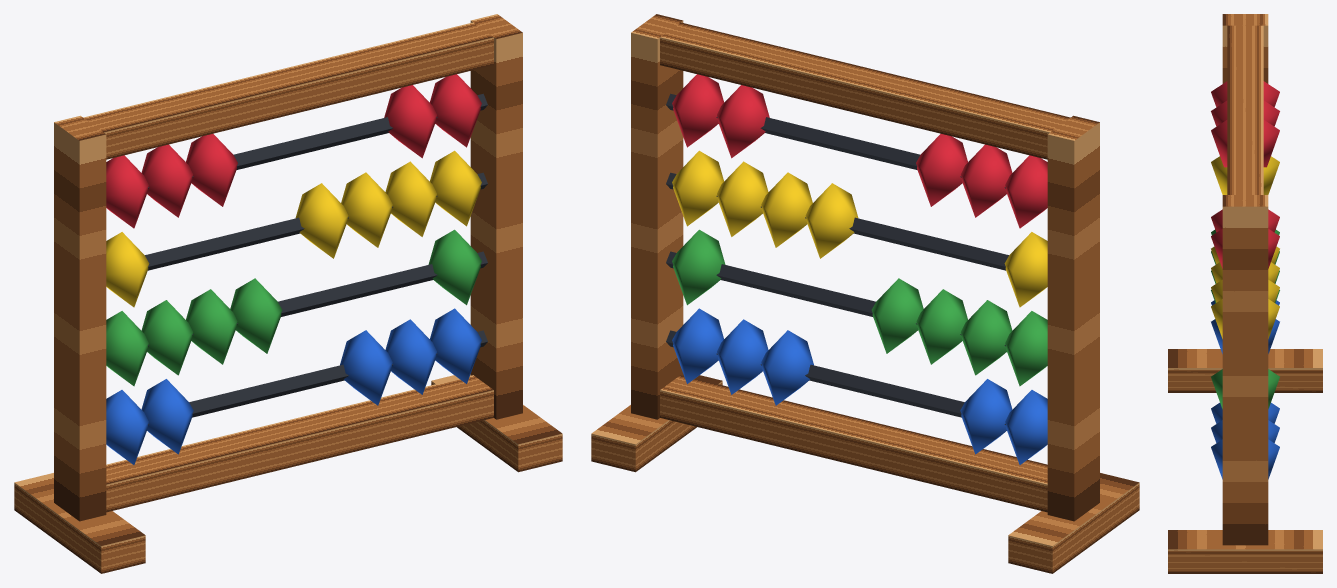
File: play-abacus.glb
The picture shows the model from 3 angles, left to right: view 1: azimuth 30°, elevation 25°; view 2: azimuth 150°, elevation 25°; view 3: azimuth 270°, elevation 25°; orthographic projection. The views are drawn at different scales.
Visible parts, largest first — view 1: play.abacus; view 2: play.abacus; view 3: play.abacus.
Part boxes in pixels (x1,y1,x2,y2): play.abacus: (14, 14, 562, 573); play.abacus: (591, 14, 1139, 573); play.abacus: (1168, 14, 1322, 573).
Bounding box in the file's own units: 1.48 × 1.25 × 0.4843.
6 materials, 1 textured.
